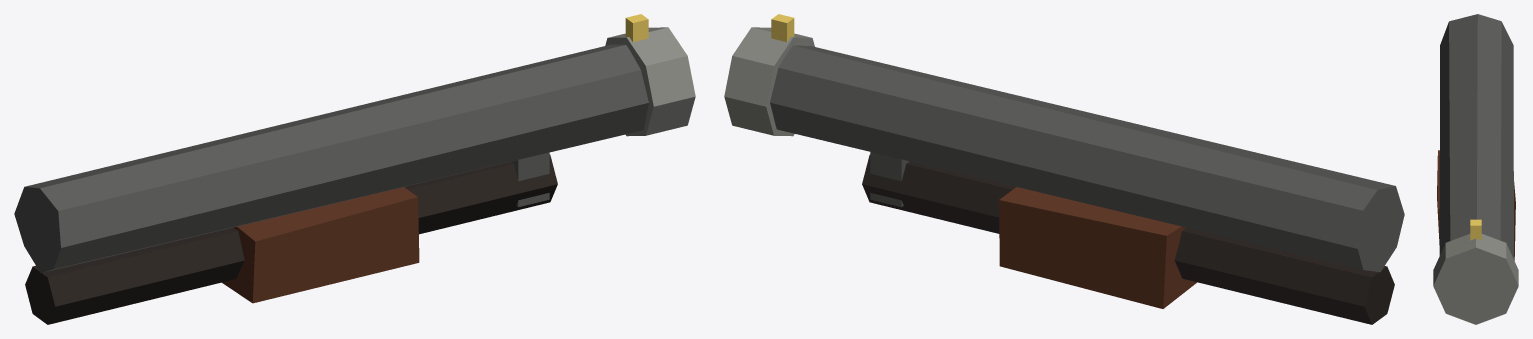
File: wbar_shotgun.glb
3 renders of one model, left to right at view 1: azimuth 30°, elevation 25°; view 2: azimuth 150°, elevation 25°; view 3: azimuth 270°, elevation 25°, orthographic. The views are drawn at different scales.
Parts seen in each view (by area): view 1: wbar_shotgun; view 2: wbar_shotgun; view 3: wbar_shotgun.
Part boxes in pixels (x1,y1,x2,y2): wbar_shotgun: [14, 14, 695, 324]; wbar_shotgun: [724, 14, 1404, 324]; wbar_shotgun: [1433, 14, 1518, 324].
Size of the model in its own units: 0.602 by 0.1579 by 0.09.
